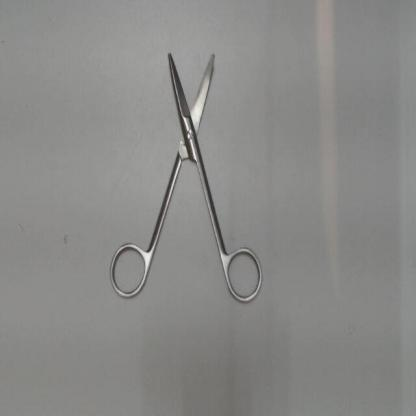Curved Mayo Scissors: (104, 41, 271, 311)
